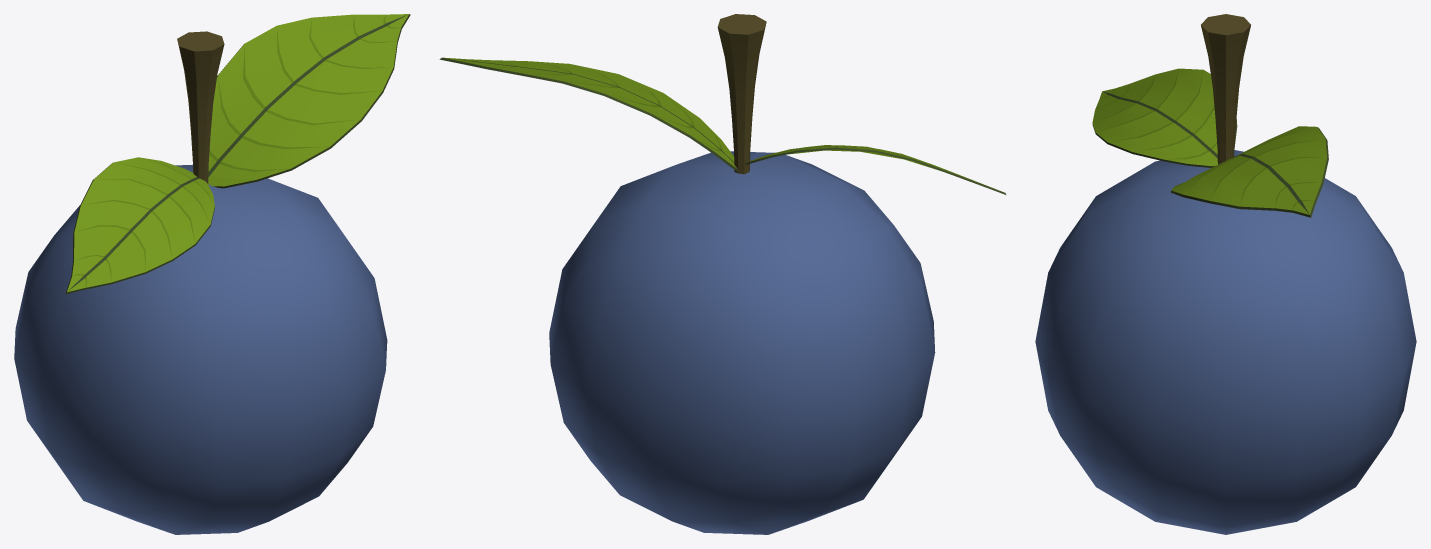
Rendered from BlueBerry.fbx.
3 views of the same model, side by side, from view 1: azimuth 30°, elevation 25°; view 2: azimuth 150°, elevation 25°; view 3: azimuth 270°, elevation 25° (orthographic). The views are drawn at different scales.
Visible parts, largest first — view 1: BlueBerry; view 2: BlueBerry; view 3: BlueBerry.
Boxes of the visible parts, box(x1,y1,x2,y2) form: BlueBerry: box(14, 14, 410, 534); BlueBerry: box(439, 14, 1006, 534); BlueBerry: box(1035, 14, 1416, 534).
Size of the model in its own units: 0.312 by 0.3173 by 0.2239.
1 material, 1 textured.
